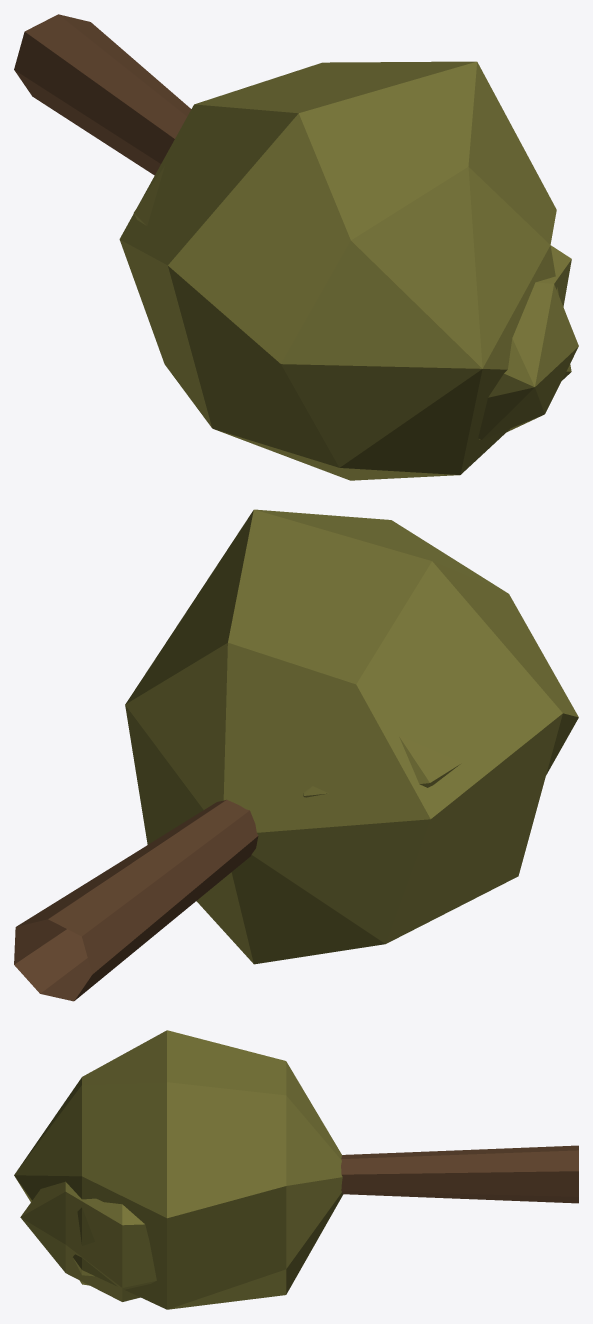
Rendered from dead.glb.
The picture shows the model from 3 angles, top to bottom: view 1: azimuth 30°, elevation 25°; view 2: azimuth 150°, elevation 25°; view 3: azimuth 270°, elevation 25°; orthographic projection. The views are drawn at different scales.
Visible parts, largest first — view 1: tree_07_dead; view 2: tree_07_dead; view 3: tree_07_dead.
Part boxes in pixels (x1,y1,x2,y2): tree_07_dead: (14, 14, 578, 480); tree_07_dead: (14, 509, 578, 1001); tree_07_dead: (14, 1030, 578, 1309).
Size of the model in its own units: 12.94 by 12.34 by 24.7.
